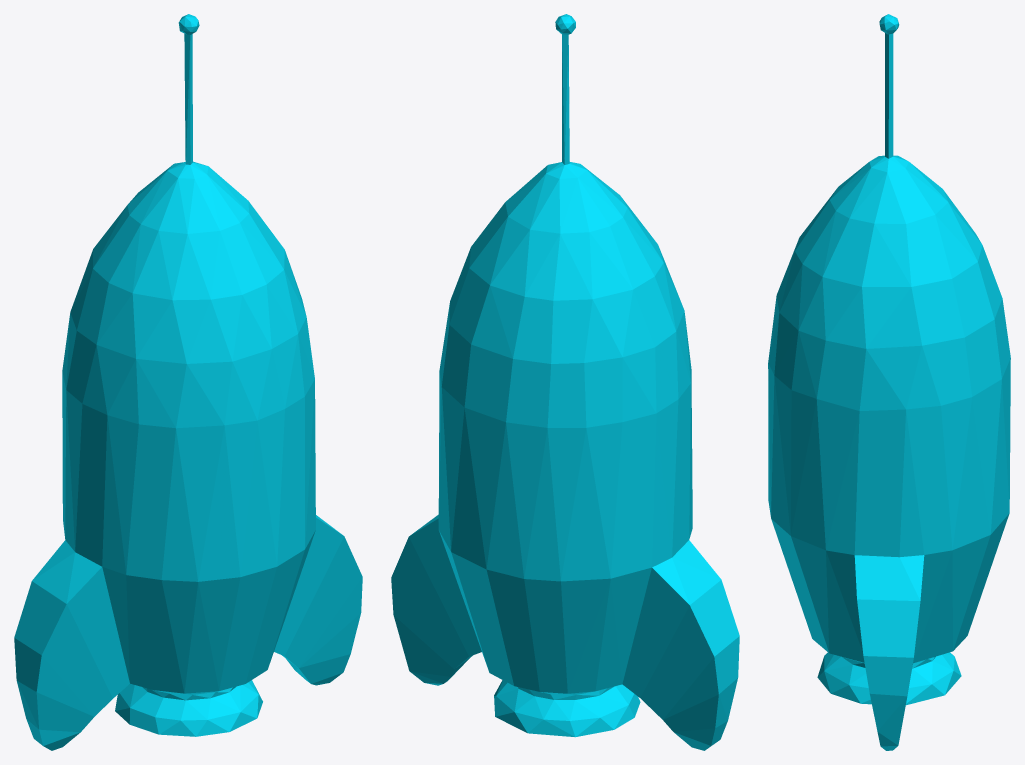
The model's file is Rakieta3.fbx.
The picture shows the model from 3 angles, left to right: view 1: azimuth 30°, elevation 25°; view 2: azimuth 150°, elevation 25°; view 3: azimuth 270°, elevation 25°; orthographic projection. The views are drawn at different scales.
Parts seen in each view (by area): view 1: Circle; view 2: Circle; view 3: Circle.
Boxes of the visible parts, <box> form: Circle: <box>14,14,362,750</box>; Circle: <box>391,14,739,750</box>; Circle: <box>768,14,1010,750</box>.
Bounding box in the file's own units: 239 × 491 × 161.
